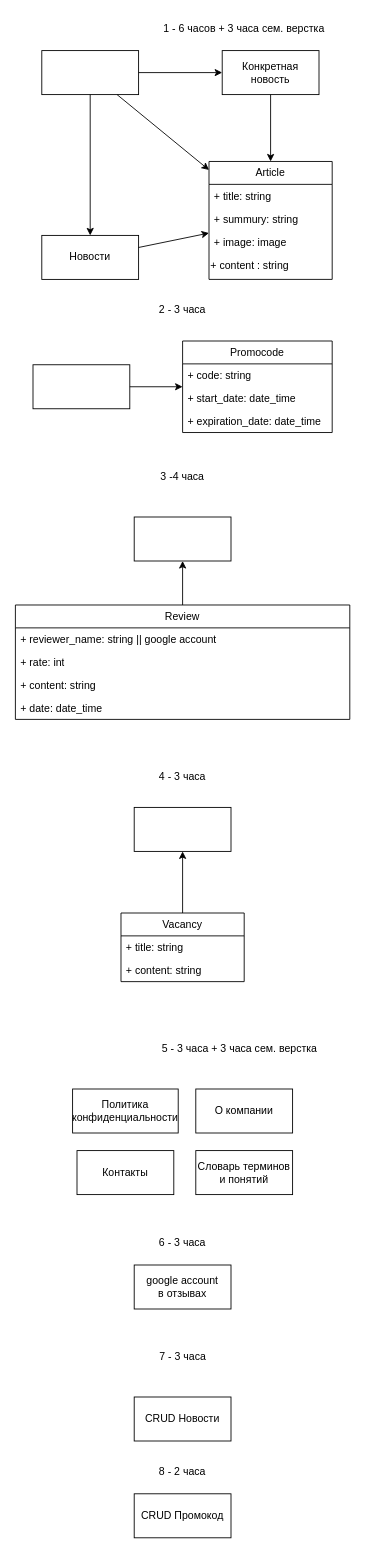
The diagram is 365 pixels wide and 1553 high, and some of its shapes have lost their labels. Each missing label, with the centre of its shape:
"Вакансии" goes at point 182,829.
"Главная" goes at point 90,72.
"Отзывы" goes at point 182,538.
"Промокоды" goes at point 81,386.
